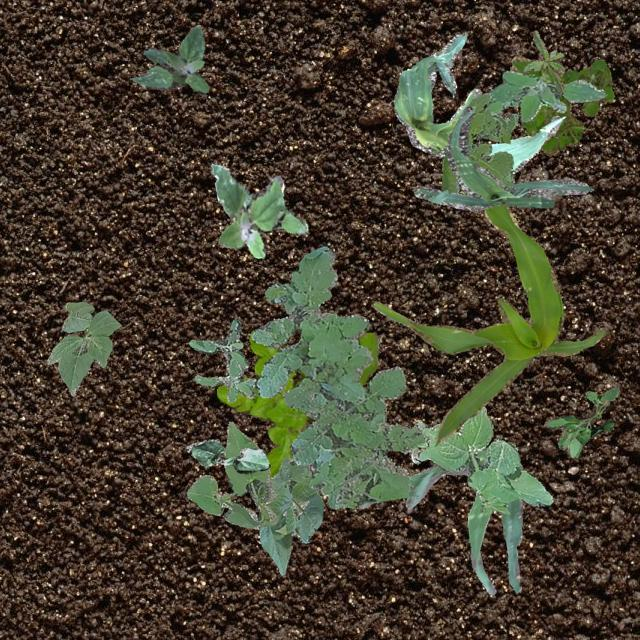crop: (372, 203, 604, 444), (358, 446, 522, 594), (394, 34, 564, 172), (186, 421, 322, 574), (412, 106, 592, 210), (46, 300, 120, 394), (185, 438, 268, 472)
weed: (250, 245, 424, 508), (215, 328, 378, 478), (420, 406, 552, 514), (508, 56, 614, 154), (210, 162, 306, 258), (441, 91, 516, 192), (482, 70, 604, 120), (188, 318, 255, 402), (544, 386, 618, 458), (130, 24, 208, 92), (522, 30, 564, 94), (408, 420, 439, 462)
